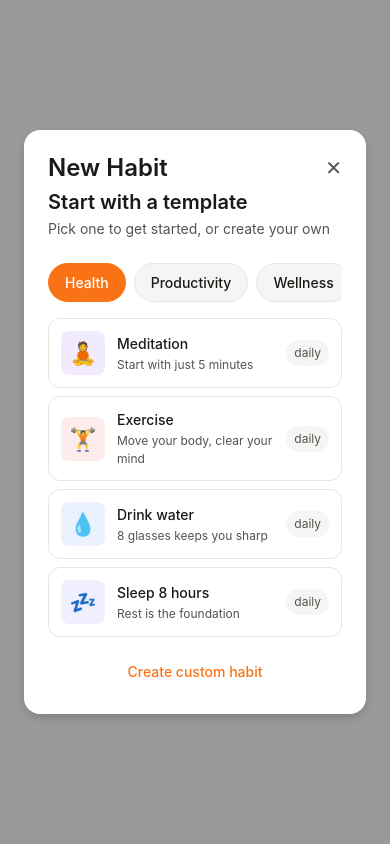
Scenario: CreateHabitScreen › shows visibility picker with private/friends/public options
Click the button with test id "template-skip" at (195, 672), box [48,637,342,706]
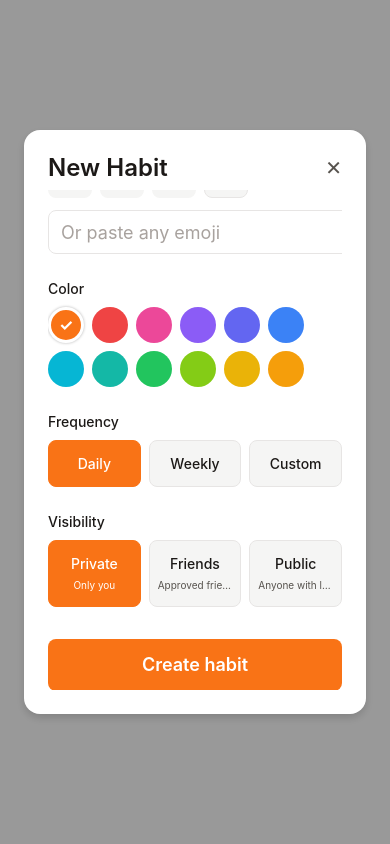
Now the element with test id "visibility-picker" is shown, box [48,511,342,607]
Now the radio button with test id "visibility-private" is shown, box [48,540,141,607]
Now the radio button with test id "visibility-friends" is shown, box [149,540,241,607]
